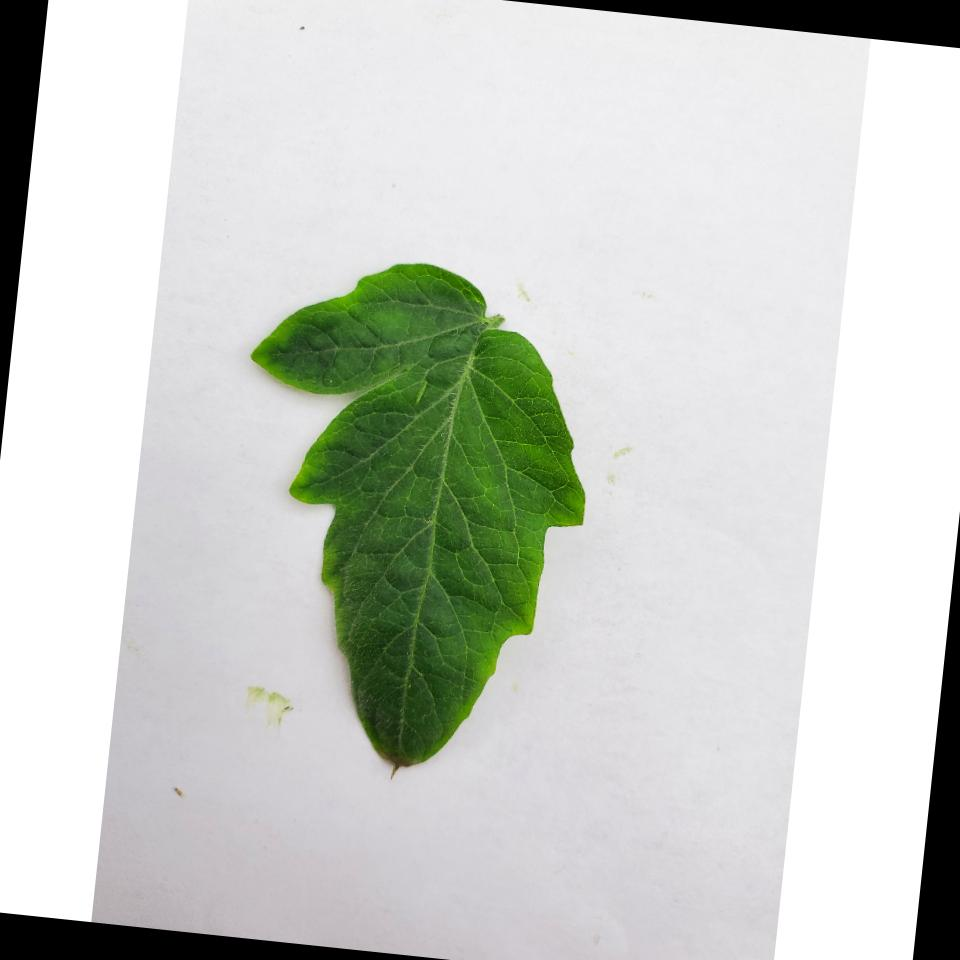tomato_leaves: (199, 238, 609, 788)
